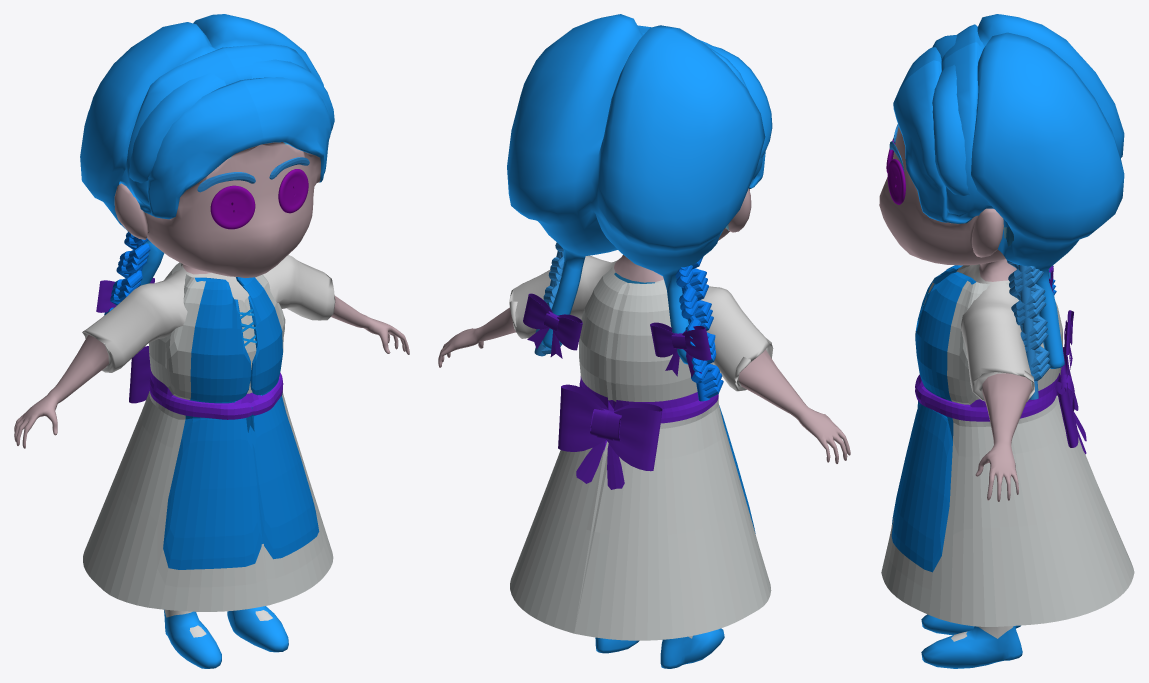
File: Porcelain doll.fbx
3 renders of one model, left to right at view 1: azimuth 30°, elevation 25°; view 2: azimuth 150°, elevation 25°; view 3: azimuth 270°, elevation 25°, orthographic. The views are drawn at different scales.
Visible parts, largest first — view 1: BODY, Cube; view 2: BODY, Cube, Cube.001; view 3: BODY, Cube.001.
Part boxes in pixels (x1,y1,x2,y2): BODY: (14,14,409,668); Cube: (104,231,150,315); BODY: (438,14,850,668); Cube: (675,257,723,401); Cube.001: (534,242,564,356); BODY: (879,14,1134,668); Cube.001: (1007,260,1050,399).
Bounding box in the file's own units: 337 × 508 × 189.
